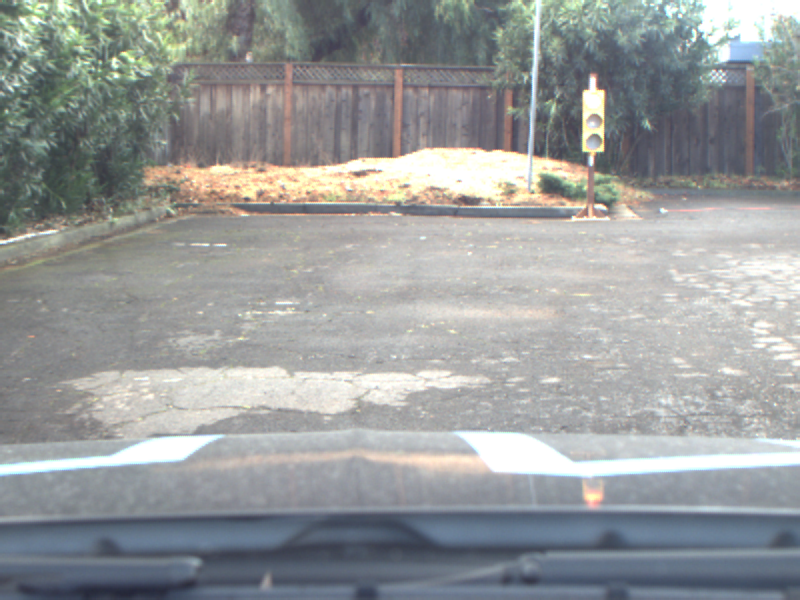Red: (582, 89, 605, 152)
